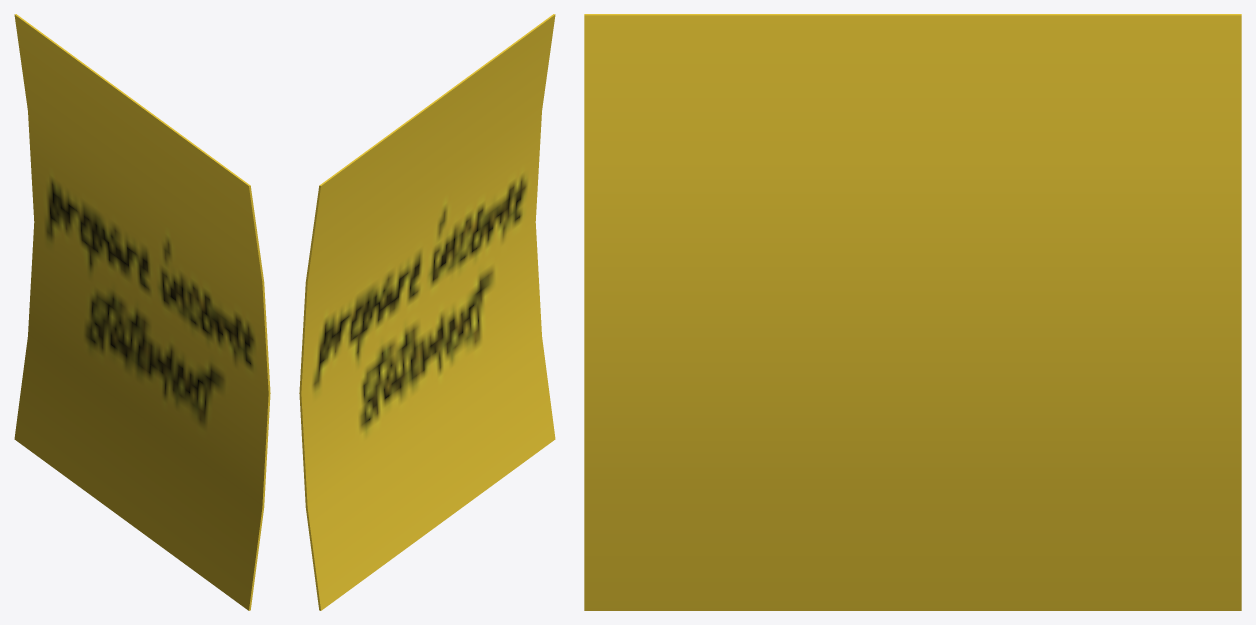
The model's file is Sticker20.fbx.
3 views of the same model, side by side, from view 1: azimuth 30°, elevation 25°; view 2: azimuth 150°, elevation 25°; view 3: azimuth 270°, elevation 25° (orthographic). The views are drawn at different scales.
Parts seen in each view (by area): view 1: Sticker20; view 2: Sticker20; view 3: Sticker20.
Boxes of the visible parts, box(x1,y1,x2,y2) form: Sticker20: box(14, 14, 270, 610); Sticker20: box(299, 14, 555, 610); Sticker20: box(584, 14, 1241, 610).
Bounding box in the file's own units: 0.004 × 0.075 × 0.075.
